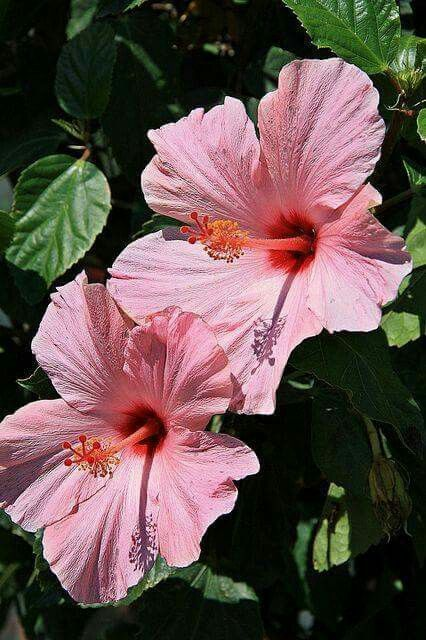Hibiscus: (105, 57, 410, 412), (10, 296, 263, 606)
